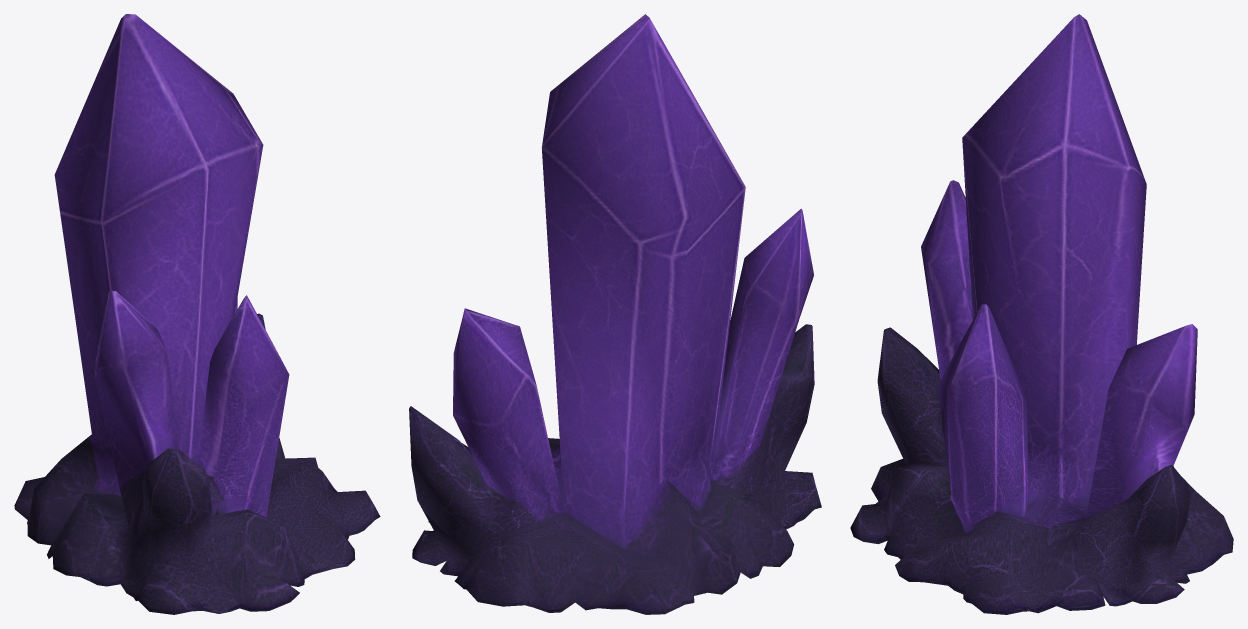
File: purple+crystal+cluster+3d+model.fbx
3 views of the same model, side by side, from view 1: azimuth 30°, elevation 25°; view 2: azimuth 150°, elevation 25°; view 3: azimuth 270°, elevation 25° (orthographic). The views are drawn at different scales.
Visible parts, largest first — view 1: meshes[0]; view 2: meshes[0]; view 3: meshes[0].
Boxes of the visible parts, <box> form: meshes[0]: <box>14,14,380,614</box>; meshes[0]: <box>409,14,821,614</box>; meshes[0]: <box>850,14,1233,614</box>.
Bounding box in the file's own units: 0.623 × 0.998 × 0.6895.
